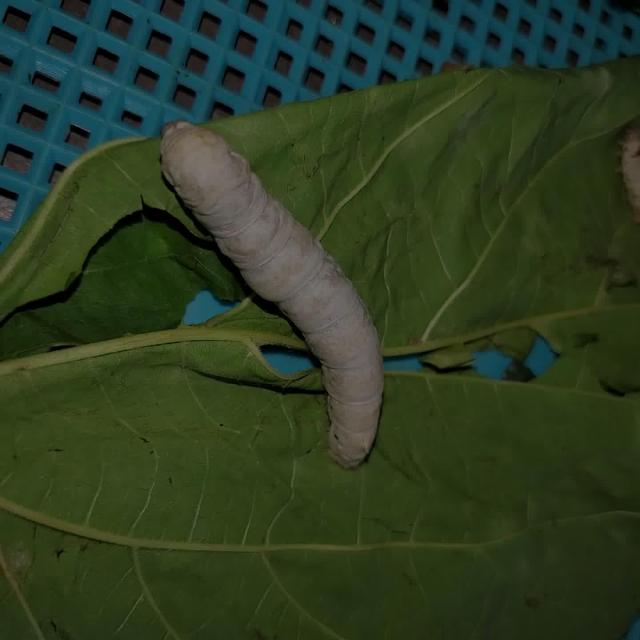Grasserie: (148, 95, 431, 479)
